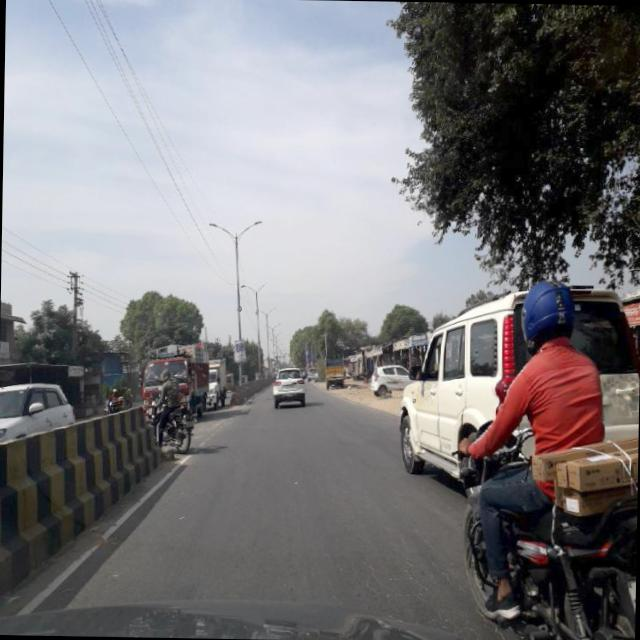crack: (360, 530, 454, 600)
